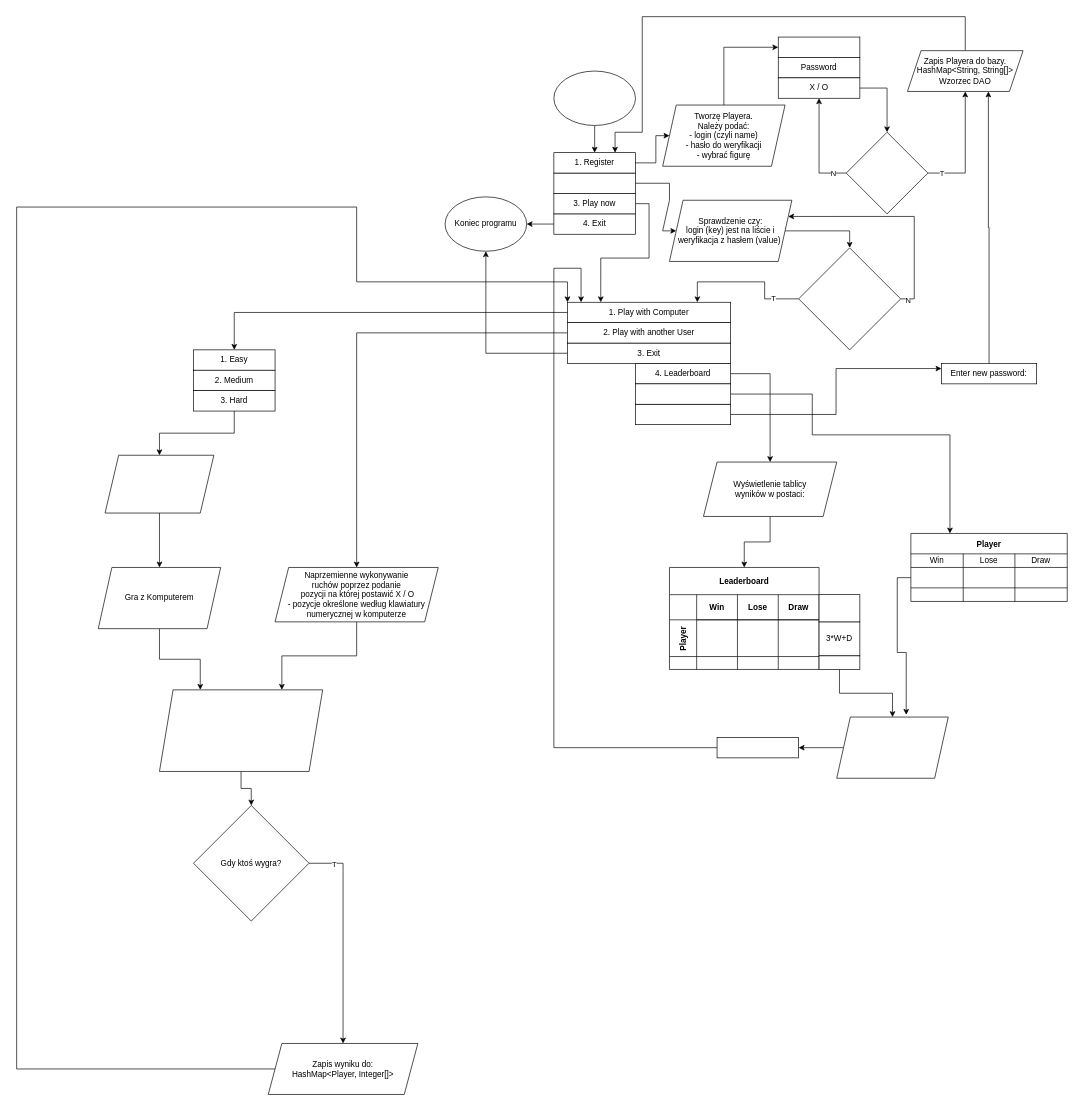
This 1079x1106 diagram has some shape labels left out. Here are the shapes that lost their labels. From the top down, the centre of each, then its label:
[819,46]: Login
[594,97]: Start programu
[594,182]: 2. Sign in
[887,173]: Czy X / O jest podane OK?
[849,298]: Czy poprawne dane?
[683,393]: 5. Statistics
[683,414]: 6. Change password
[159,484]: Zaimplementowanie sztucznej inteligencji.
[839,608]: Wynik
[241,730]: Kontrola planszy GameController
[757,747]: Back
[892,747]: Pod tabelą przycisk powrotu do menu
